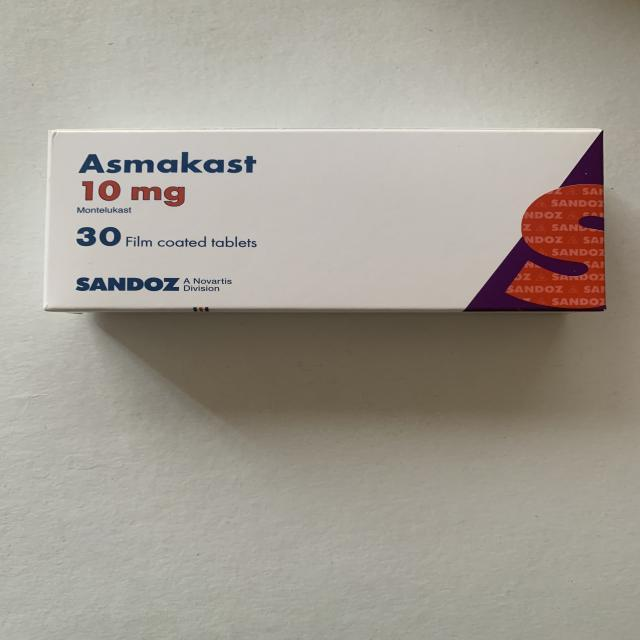Medicine Name: (77, 144, 267, 182)
